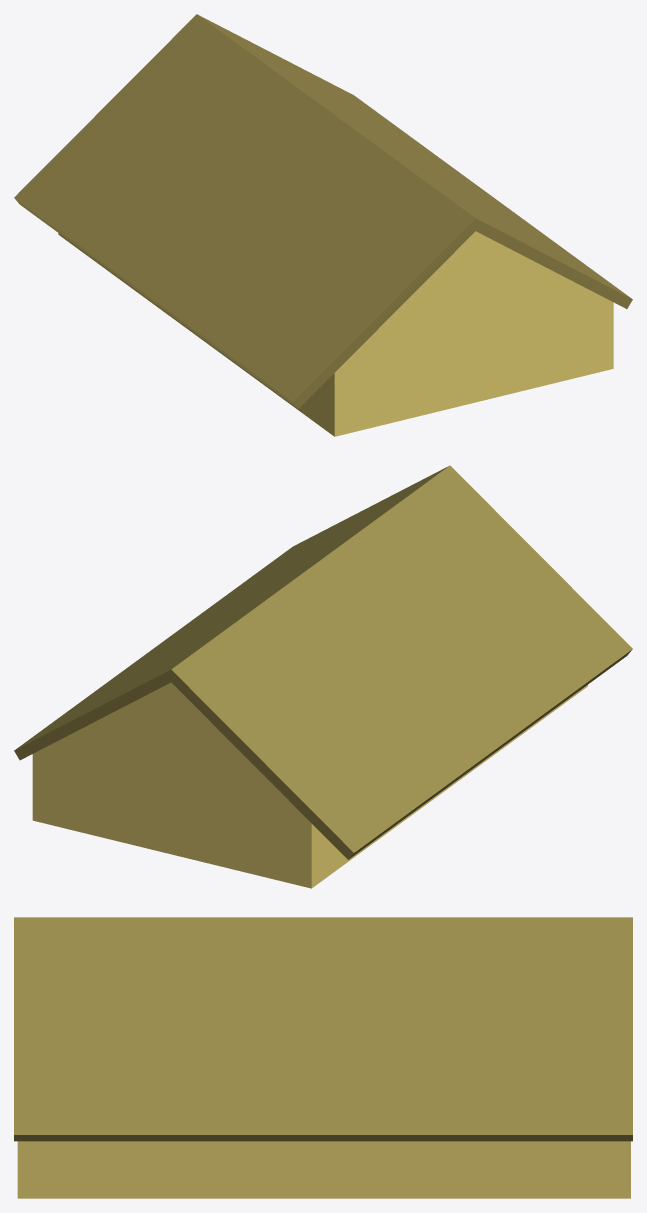
Rendered from result.glb.
The picture shows the model from 3 angles, top to bottom: view 1: azimuth 30°, elevation 25°; view 2: azimuth 150°, elevation 25°; view 3: azimuth 270°, elevation 25°; orthographic projection. The views are drawn at different scales.
Visible parts, largest first — view 1: 8e5664c9-81ff-4363-8023-825aaf729112__undefined (×2), fe0d25ba-f18e-47c4-afd2-cb2c5bc93fb6__undefined; view 2: 8e5664c9-81ff-4363-8023-825aaf729112__undefined (×2), fe0d25ba-f18e-47c4-afd2-cb2c5bc93fb6__undefined; view 3: 8e5664c9-81ff-4363-8023-825aaf729112__undefined, fe0d25ba-f18e-47c4-afd2-cb2c5bc93fb6__undefined.
Boxes of the visible parts, box(x1,y1,x2,y2) form: 8e5664c9-81ff-4363-8023-825aaf729112__undefined (×2): box(14, 14, 632, 408); fe0d25ba-f18e-47c4-afd2-cb2c5bc93fb6__undefined: box(58, 231, 613, 436); 8e5664c9-81ff-4363-8023-825aaf729112__undefined (×2): box(14, 465, 632, 859); fe0d25ba-f18e-47c4-afd2-cb2c5bc93fb6__undefined: box(32, 682, 587, 888); 8e5664c9-81ff-4363-8023-825aaf729112__undefined: box(14, 917, 632, 1141); fe0d25ba-f18e-47c4-afd2-cb2c5bc93fb6__undefined: box(17, 1141, 630, 1198).
Bounding box in the file's own units: 852 × 445 × 1211.
